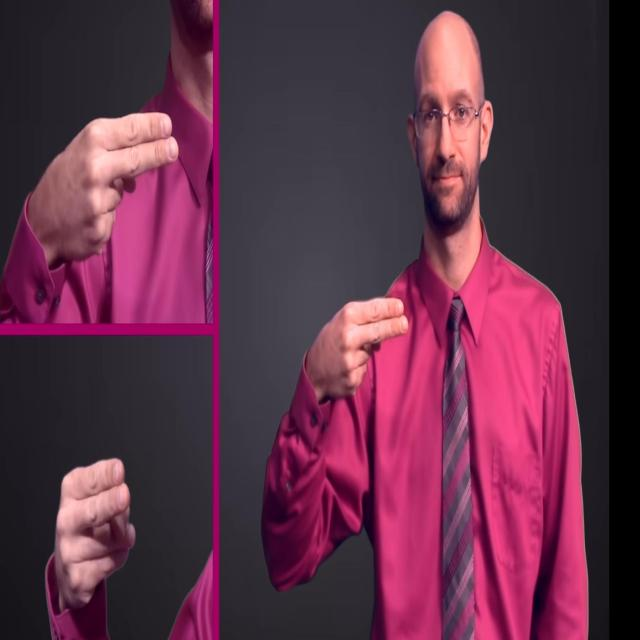H: (0, 108, 182, 306), (44, 451, 138, 639), (292, 291, 410, 401)
